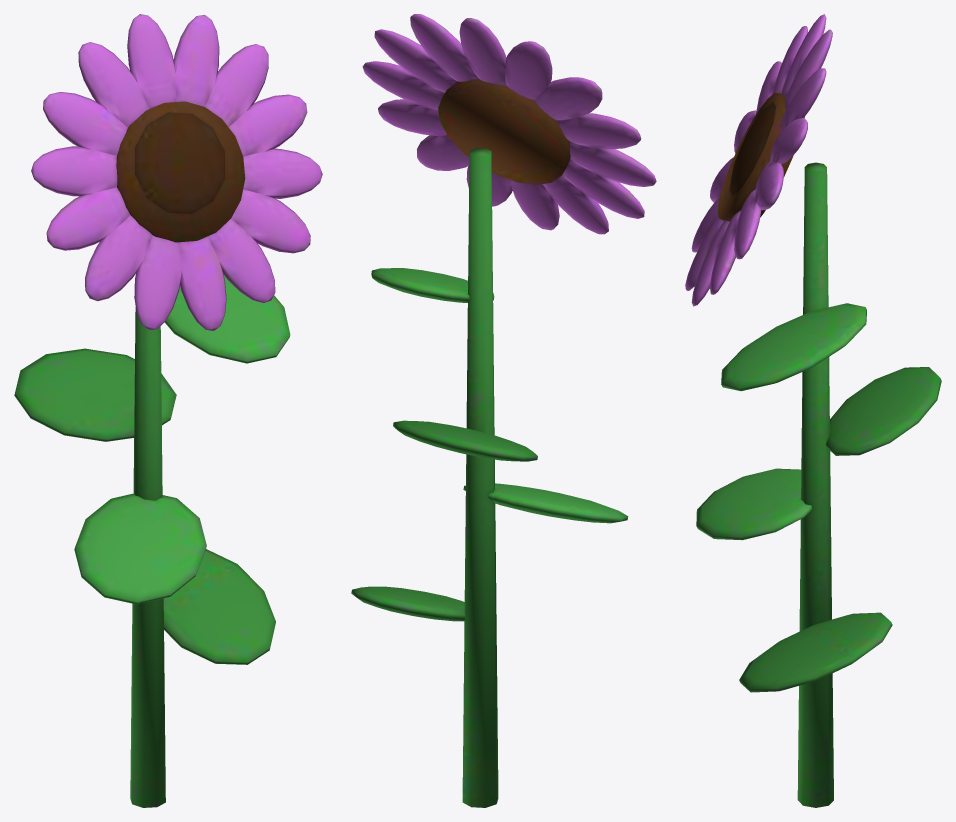
File: crop_orchid.glb
The picture shows the model from 3 angles, left to right: view 1: azimuth 30°, elevation 25°; view 2: azimuth 150°, elevation 25°; view 3: azimuth 270°, elevation 25°; orthographic projection. The views are drawn at different scales.
Parts seen in each view (by area): view 1: crop_orchid, fruit; view 2: crop_orchid, fruit; view 3: crop_orchid, fruit.
Boxes of the visible parts, bbox=[...] form: crop_orchid: bbox=[14, 101, 290, 807]; fruit: bbox=[31, 14, 322, 331]; crop_orchid: bbox=[351, 79, 628, 807]; fruit: bbox=[362, 14, 656, 234]; crop_orchid: bbox=[696, 92, 941, 807]; fruit: bbox=[685, 14, 832, 306].
Bounding box in the file's own units: 0.2242 × 0.6079 × 0.1837.
Materials: 1 (1 with a texture image).
